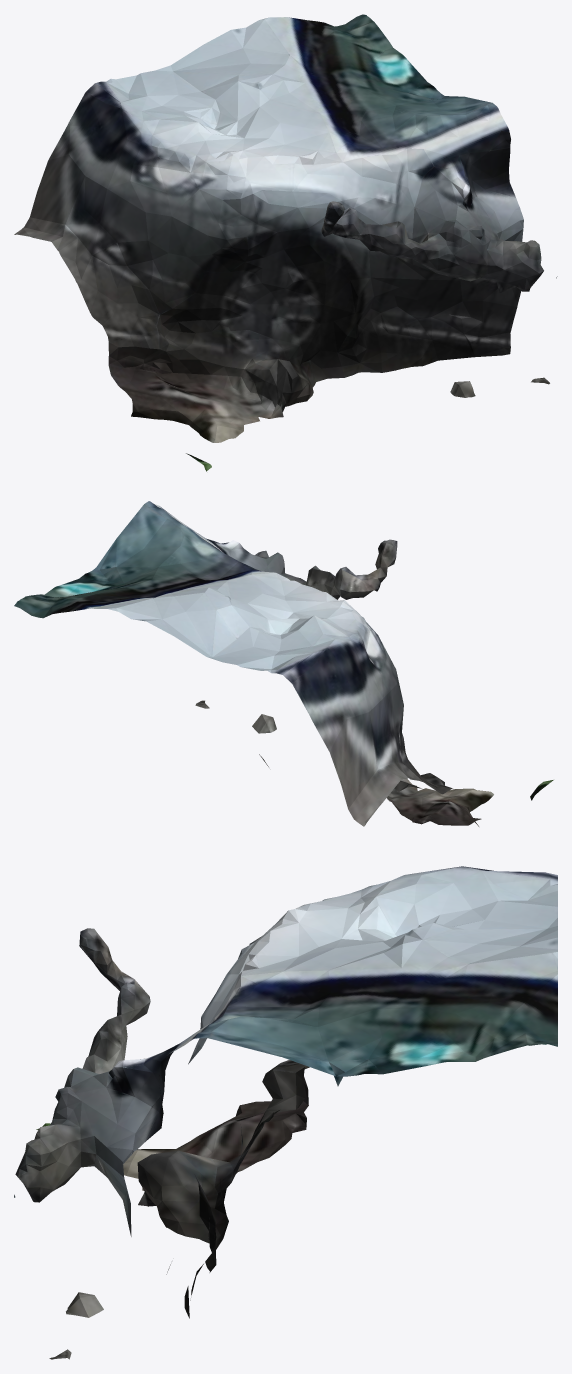
3 views of the same model, one above another, from view 1: azimuth 30°, elevation 25°; view 2: azimuth 150°, elevation 25°; view 3: azimuth 270°, elevation 25° (orthographic). The views are drawn at different scales.
Size of the model in its own units: 1.67 by 1.16 by 1.67.
3 materials, 3 textured.
